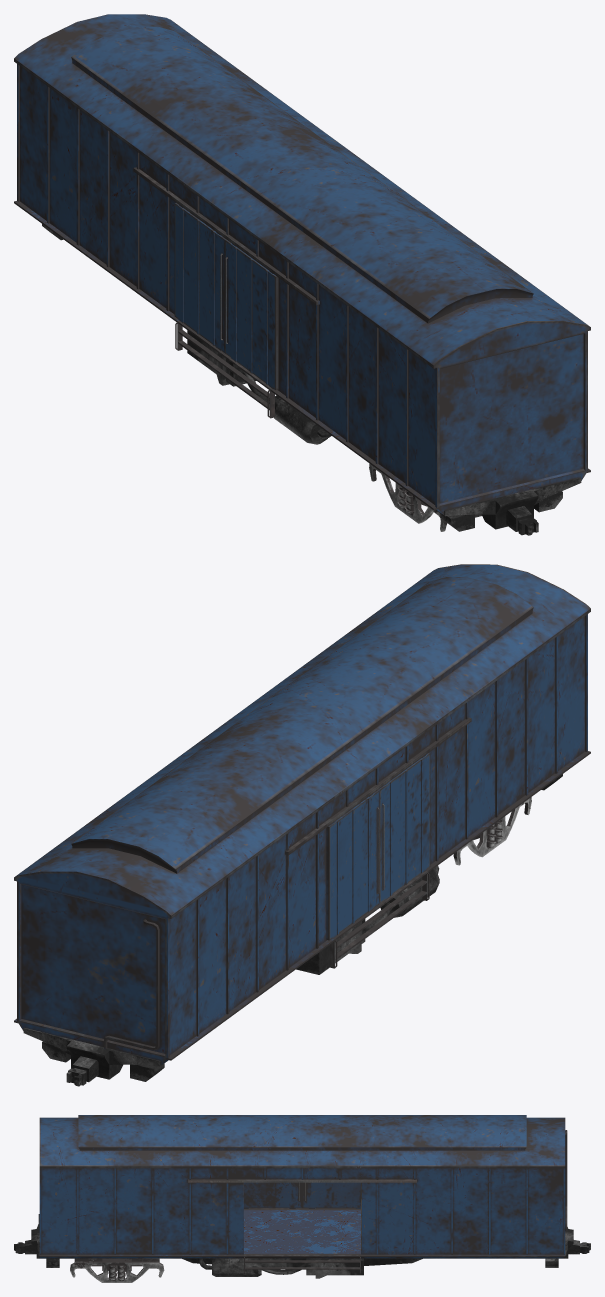
Rendered from ContainerWagon.fbx.
3 renders of one model, top to bottom at view 1: azimuth 30°, elevation 25°; view 2: azimuth 150°, elevation 25°; view 3: azimuth 270°, elevation 25°, orthographic. The views are drawn at different scales.
Parts seen in each view (by area): view 1: Container, DoorRight, DoorLeft, Platform, Bogie(Wagon), Connector_1; view 2: Container, DoorLeft, DoorRight, Platform, Bogie(Wagon), Connector_2; view 3: Container, Platform, Bogie(Wagon), DoorLeft, DoorRight, Connector_2, Connector_1.
Part boxes in pixels (<box>): Container: <box>14,14,590,514</box>; DoorRight: <box>225,239,278,390</box>; DoorLeft: <box>174,203,226,352</box>; Platform: <box>42,224,581,531</box>; Bogie(Wagon): <box>369,463,481,531</box>; Connector_1: <box>506,506,538,535</box>; Container: <box>14,564,590,1064</box>; DoorLeft: <box>326,790,379,940</box>; DoorRight: <box>378,753,430,903</box>; Platform: <box>23,774,562,1081</box>; Bogie(Wagon): <box>453,797,531,865</box>; Connector_2: <box>66,1056,98,1086</box>; Container: <box>39,1115,567,1274</box>; Platform: <box>31,1214,573,1278</box>; Bogie(Wagon): <box>70,1258,164,1282</box>; DoorLeft: <box>302,1182,360,1208</box>; DoorRight: <box>244,1182,302,1208</box>; Connector_2: <box>568,1240,590,1254</box>; Connector_1: <box>14,1240,36,1254</box>.
Size of the model in its own units: 372 by 517 by 1841.
Materials: 4 (4 with a texture image).
